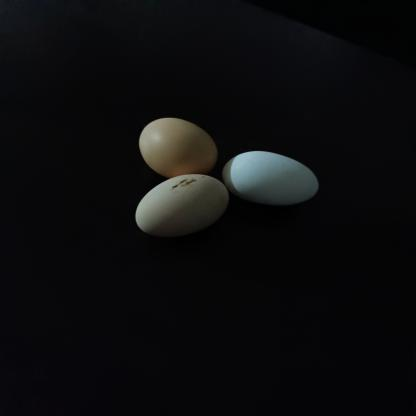egg: (218, 135, 333, 211), (128, 167, 242, 243), (128, 108, 228, 175)
